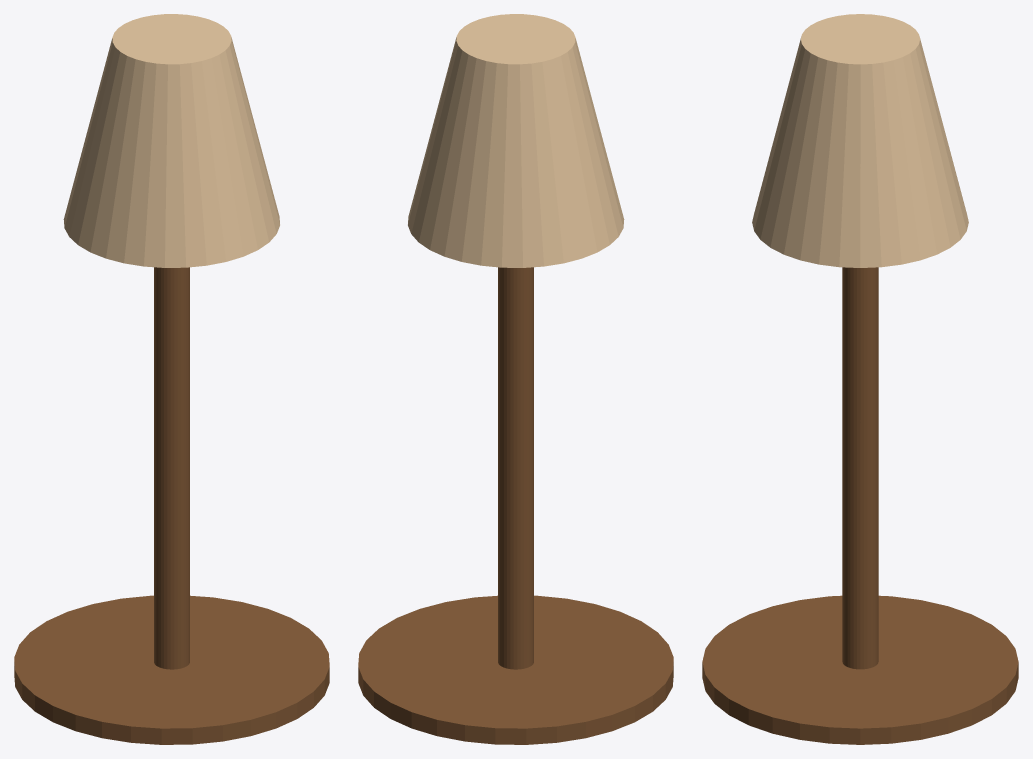
File: lamp.fbx
The picture shows the model from 3 angles, left to right: view 1: azimuth 30°, elevation 25°; view 2: azimuth 150°, elevation 25°; view 3: azimuth 270°, elevation 25°; orthographic projection.
Visible parts, largest first — view 1: Cylinder.002, Cylinder, Cylinder.001; view 2: Cylinder.002, Cylinder, Cylinder.001; view 3: Cylinder.002, Cylinder, Cylinder.001.
Boxes of the visible parts, x1,y1,x2,y2 form: Cylinder.002: (63, 14, 279, 267); Cylinder: (14, 595, 329, 744); Cylinder.001: (154, 267, 189, 669); Cylinder.002: (408, 14, 624, 267); Cylinder: (358, 595, 673, 744); Cylinder.001: (498, 267, 533, 669); Cylinder.002: (752, 14, 968, 267); Cylinder: (702, 595, 1018, 744); Cylinder.001: (842, 267, 878, 669).
Bounding box in the file's own units: 350 × 780 × 350.
